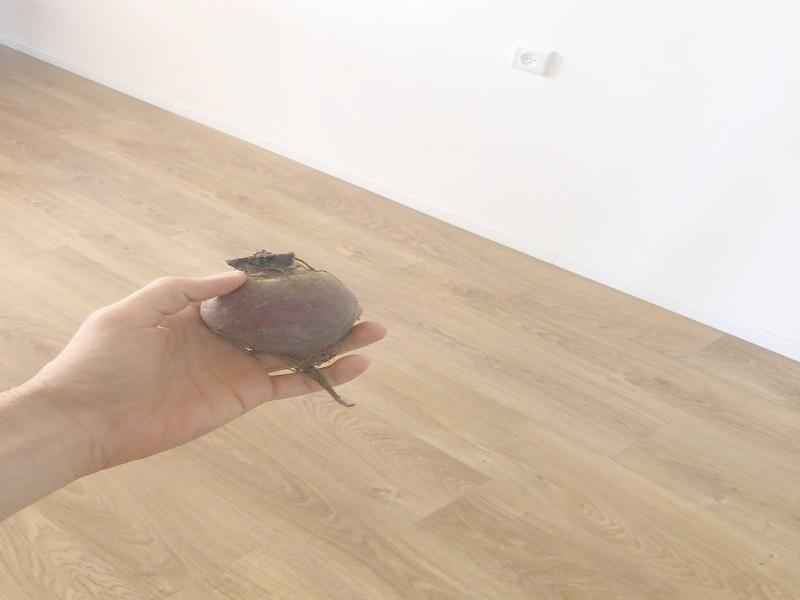Beet: (200, 253, 362, 407)
